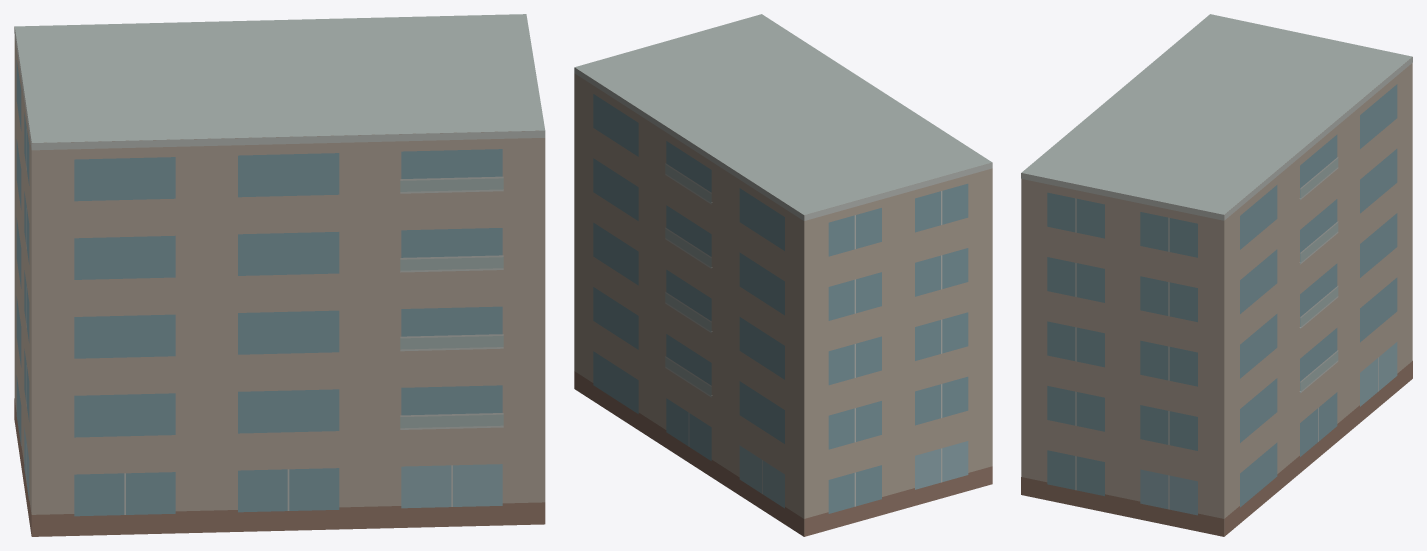
The model's file is survey-upis-33008640.glb.
3 renders of one model, left to right at view 1: azimuth 30°, elevation 25°; view 2: azimuth 150°, elevation 25°; view 3: azimuth 270°, elevation 25°, orthographic. The views are drawn at different scales.
Parts seen in each view (by area): view 1: survey-upis-33008640.tmp; view 2: survey-upis-33008640.tmp; view 3: survey-upis-33008640.tmp.
Boxes of the visible parts, x1,y1,x2,y2 form: survey-upis-33008640.tmp: (14, 14, 545, 536); survey-upis-33008640.tmp: (574, 14, 992, 536); survey-upis-33008640.tmp: (1021, 14, 1412, 536).
Bounding box in the file's own units: 17.66 × 13.2 × 14.56.
